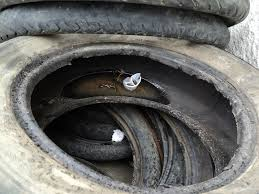tire: (1, 26, 258, 194), (1, 6, 238, 53)
